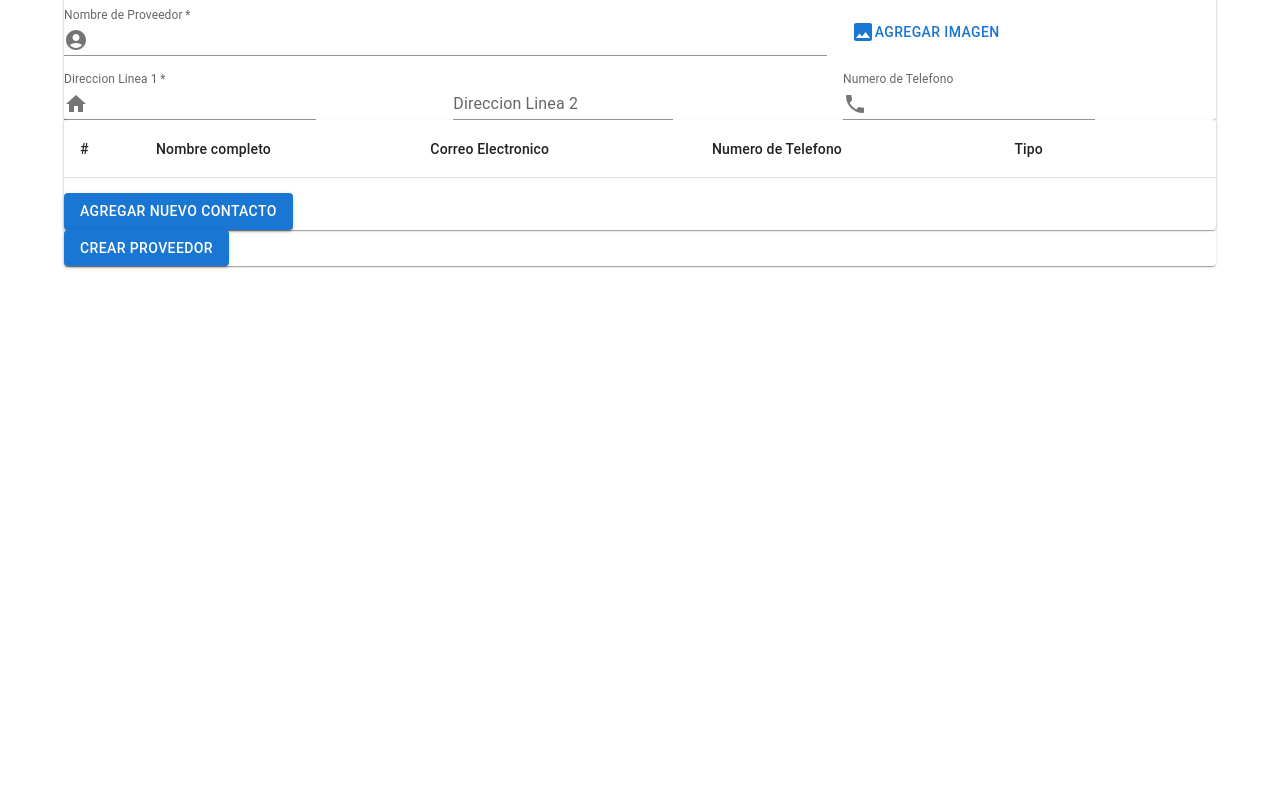
it: SupplierEditableView › Should not create a Supplier when either the name or phone numbers are missing
Click the button "Crear Proveedor": click(146, 248) [64,230,229,266]
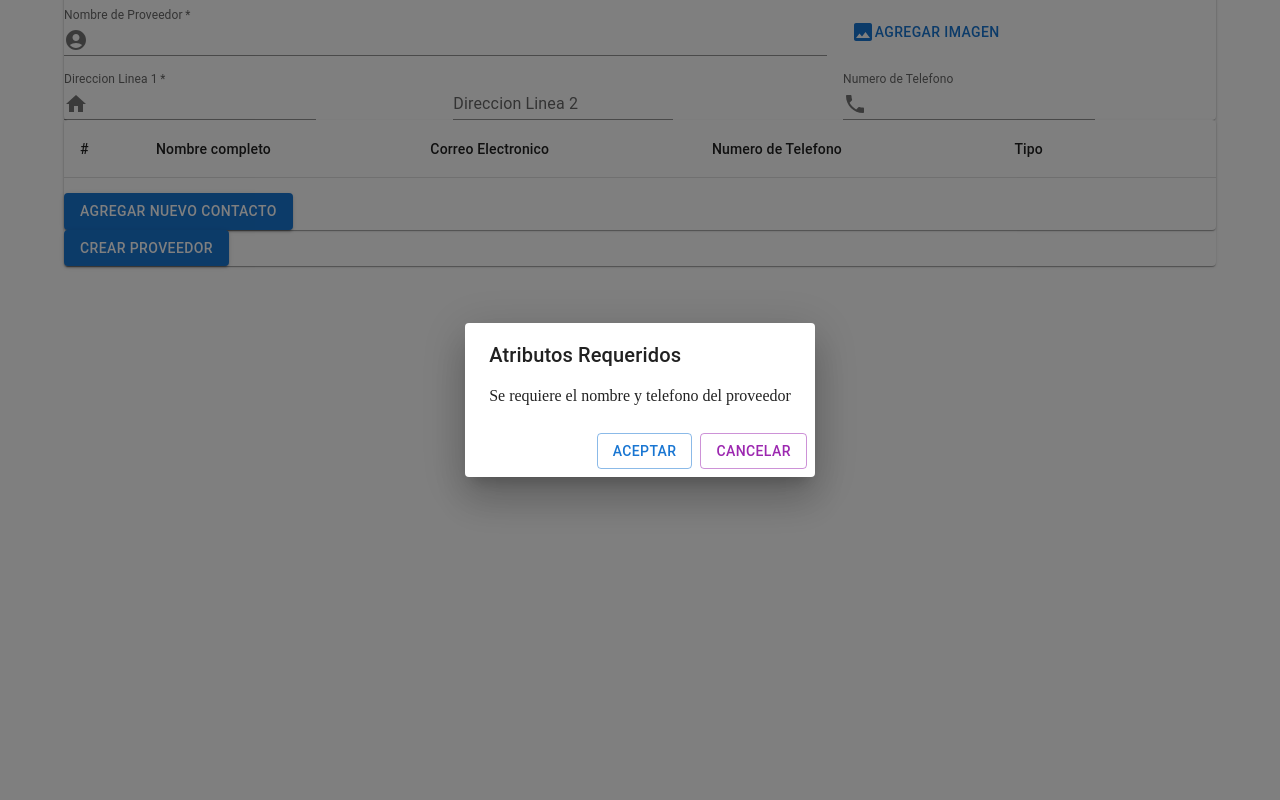
Expected: the heading "Atributos Requeridos" is shown, [489,343,681,367]
